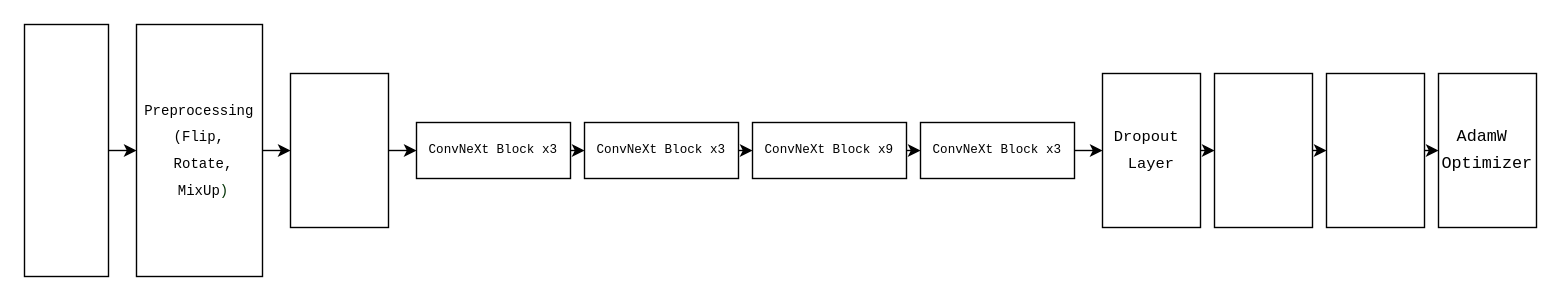
Some shapes in this 1561 by 301 pixel diagram are drawn without their labels. The shapes that lost their labels are listed below. From the top down, each one's centre as x and y in pixels, then its label:
point (65, 149): Input Image
point (338, 149): Stem Cell
point (1262, 149): Fully Connected Layer
point (1374, 149): "SoftTarget CrossEntropy"
